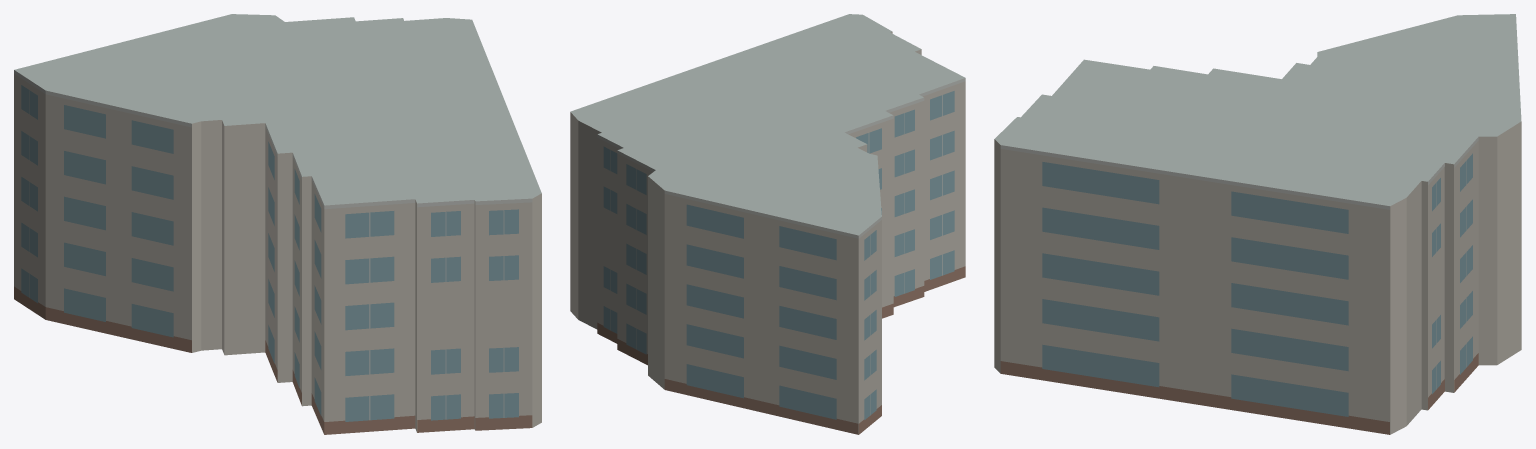
The model's file is survey-upis-32716630.glb.
3 views of the same model, side by side, from view 1: azimuth 30°, elevation 25°; view 2: azimuth 150°, elevation 25°; view 3: azimuth 270°, elevation 25° (orthographic). The views are drawn at different scales.
Parts seen in each view (by area): view 1: survey-upis-32716630.tmp; view 2: survey-upis-32716630.tmp; view 3: survey-upis-32716630.tmp.
Boxes of the visible parts, <box> form: survey-upis-32716630.tmp: <box>14,14,541,434</box>; survey-upis-32716630.tmp: <box>570,14,965,434</box>; survey-upis-32716630.tmp: <box>994,14,1521,434</box>.
Bounding box in the file's own units: 26.69 × 14.8 × 30.92.
